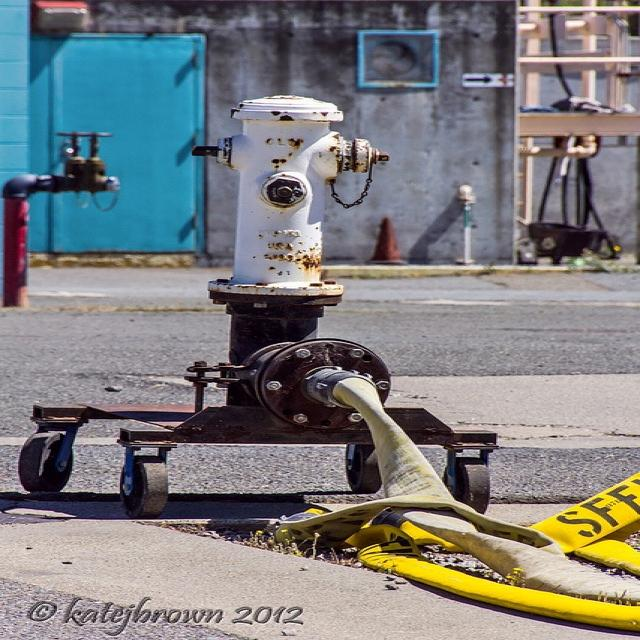fire_hydrant: (187, 91, 390, 367), (0, 118, 126, 311)
